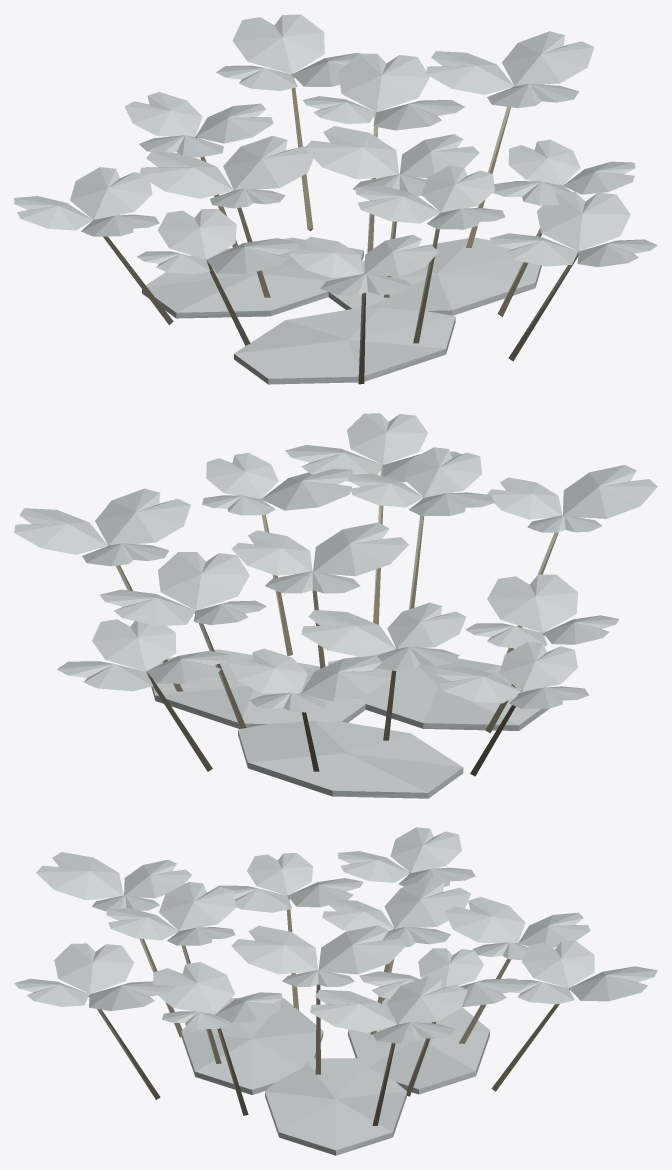
Rendered from clover_patch_winter.glb.
3 views of the same model, one above another, from view 1: azimuth 30°, elevation 25°; view 2: azimuth 150°, elevation 25°; view 3: azimuth 270°, elevation 25° (orthographic). The views are drawn at different scales.
Visible parts, largest first — view 1: geometry; view 2: geometry; view 3: geometry.
Part boxes in pixels (x1=…): geometry: x1=14, y1=14, x2=657, y2=384; geometry: x1=14, y1=413, x2=657, y2=798; geometry: x1=14, y1=827, x2=657, y2=1155.
Size of the model in its own units: 0.3095 by 0.09 by 0.3317.
